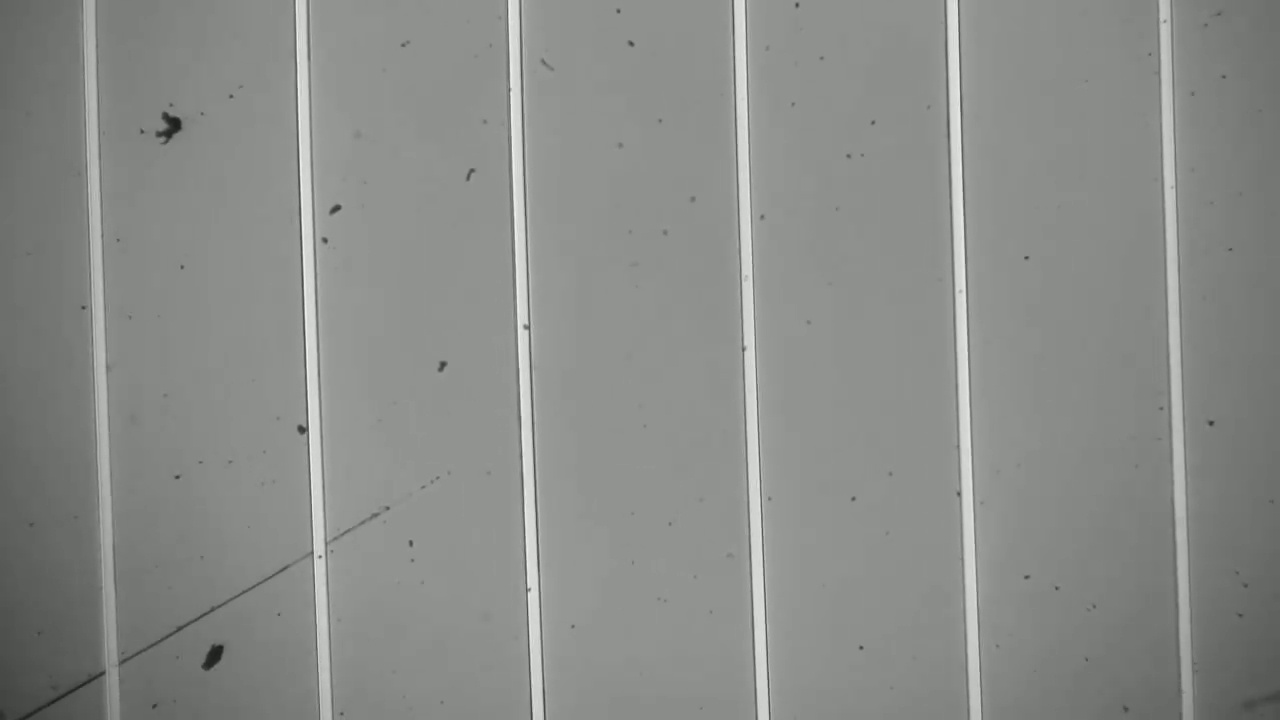scratch: (20, 474, 452, 719)
